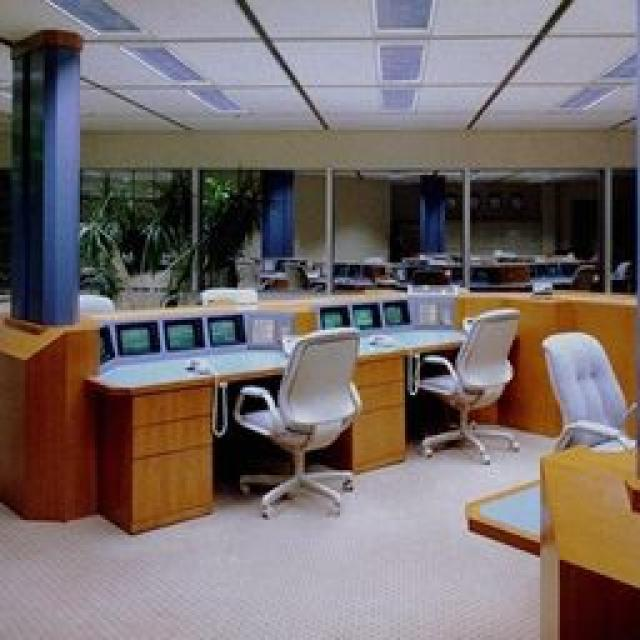2001: (75, 162, 172, 218)
2011: (190, 162, 632, 290)
ceiling lamps: (120, 42, 202, 82), (46, 0, 135, 32), (372, 38, 422, 80), (370, 0, 430, 32), (555, 82, 615, 110), (182, 82, 238, 110), (378, 88, 412, 108)
chair -occluded-: (232, 315, 360, 520), (412, 305, 520, 462), (538, 328, 630, 448)
column occluded: (8, 28, 82, 325)
desk: (455, 285, 635, 432)
desk calendar: (85, 320, 515, 530), (462, 442, 635, 635), (88, 322, 470, 395)
file organizer: (95, 380, 212, 532), (315, 355, 402, 472)
monitors: (95, 310, 290, 370), (312, 295, 408, 330)
phone charger: (182, 352, 215, 372), (365, 330, 405, 345)
plant -x: (78, 168, 278, 305)
